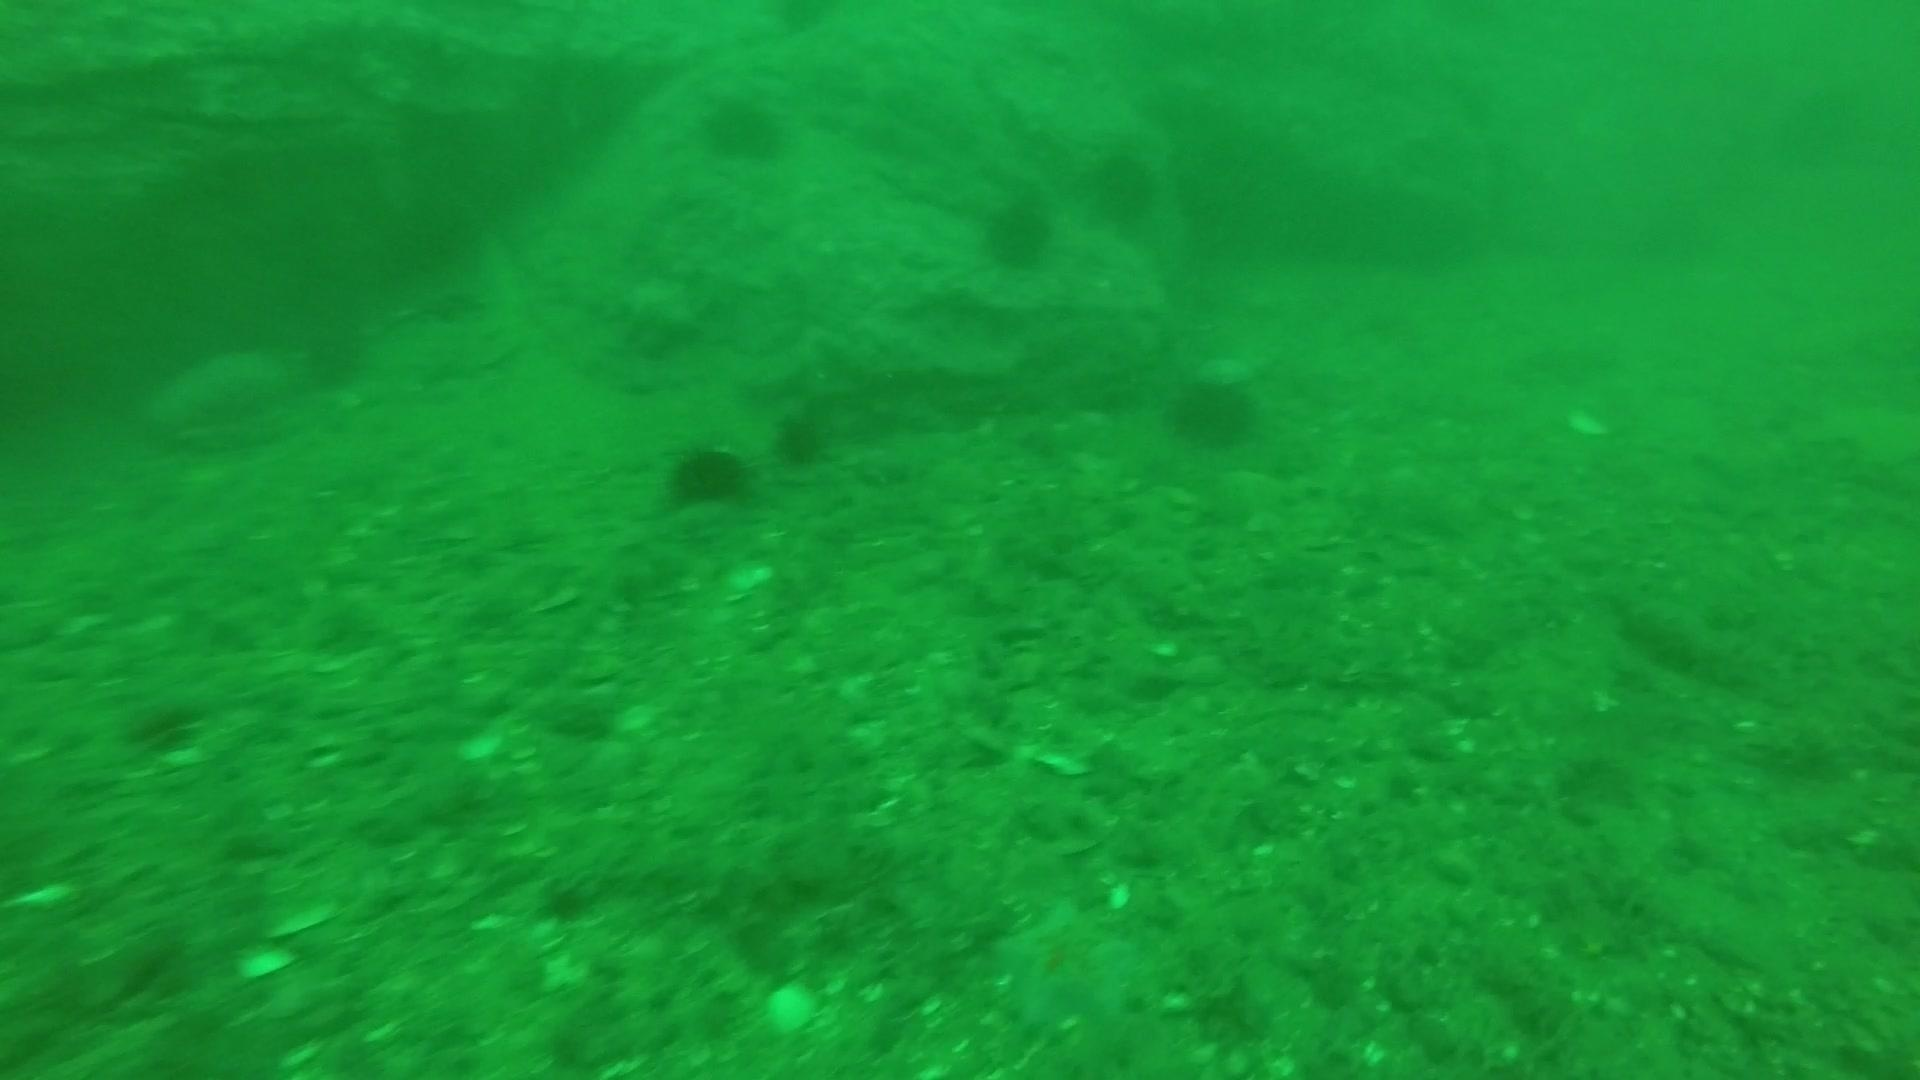echinus: (1160, 367, 1263, 455), (694, 84, 793, 167), (975, 187, 1062, 276), (661, 435, 756, 516), (1083, 140, 1163, 231), (291, 309, 377, 393), (767, 404, 836, 472)
starfish: (982, 887, 1154, 1039), (142, 342, 305, 448)
